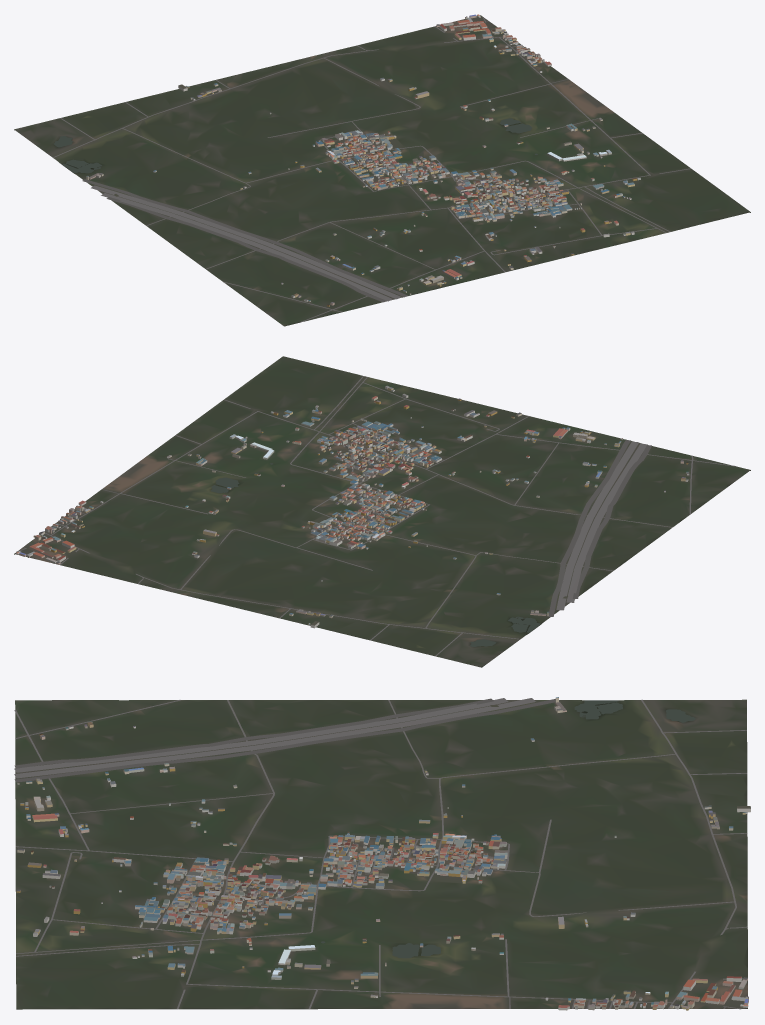
3 views of the same model, one above another, from view 1: azimuth 30°, elevation 25°; view 2: azimuth 150°, elevation 25°; view 3: azimuth 270°, elevation 25° (orthographic). The views are drawn at different scales.
Visible parts, largest first — view 1: ground, buildings, roads, water; view 2: ground, buildings, roads, water; view 3: ground, buildings, roads, water.
Part boxes in pixels (box(x1,y1,x2,y2)): ground: box(14, 15, 750, 326); buildings: box(86, 14, 640, 306); roads: box(53, 17, 691, 322); water: box(54, 118, 537, 173); ground: box(14, 356, 750, 667); buildings: box(16, 385, 689, 628); roads: box(16, 376, 735, 656); water: box(210, 463, 540, 646); ground: box(15, 699, 747, 1009); buildings: box(16, 697, 750, 1010); roads: box(14, 698, 747, 1009); water: box(321, 700, 695, 958).
Size of the model in its own units: 1418 by 15.8 by 1412.
